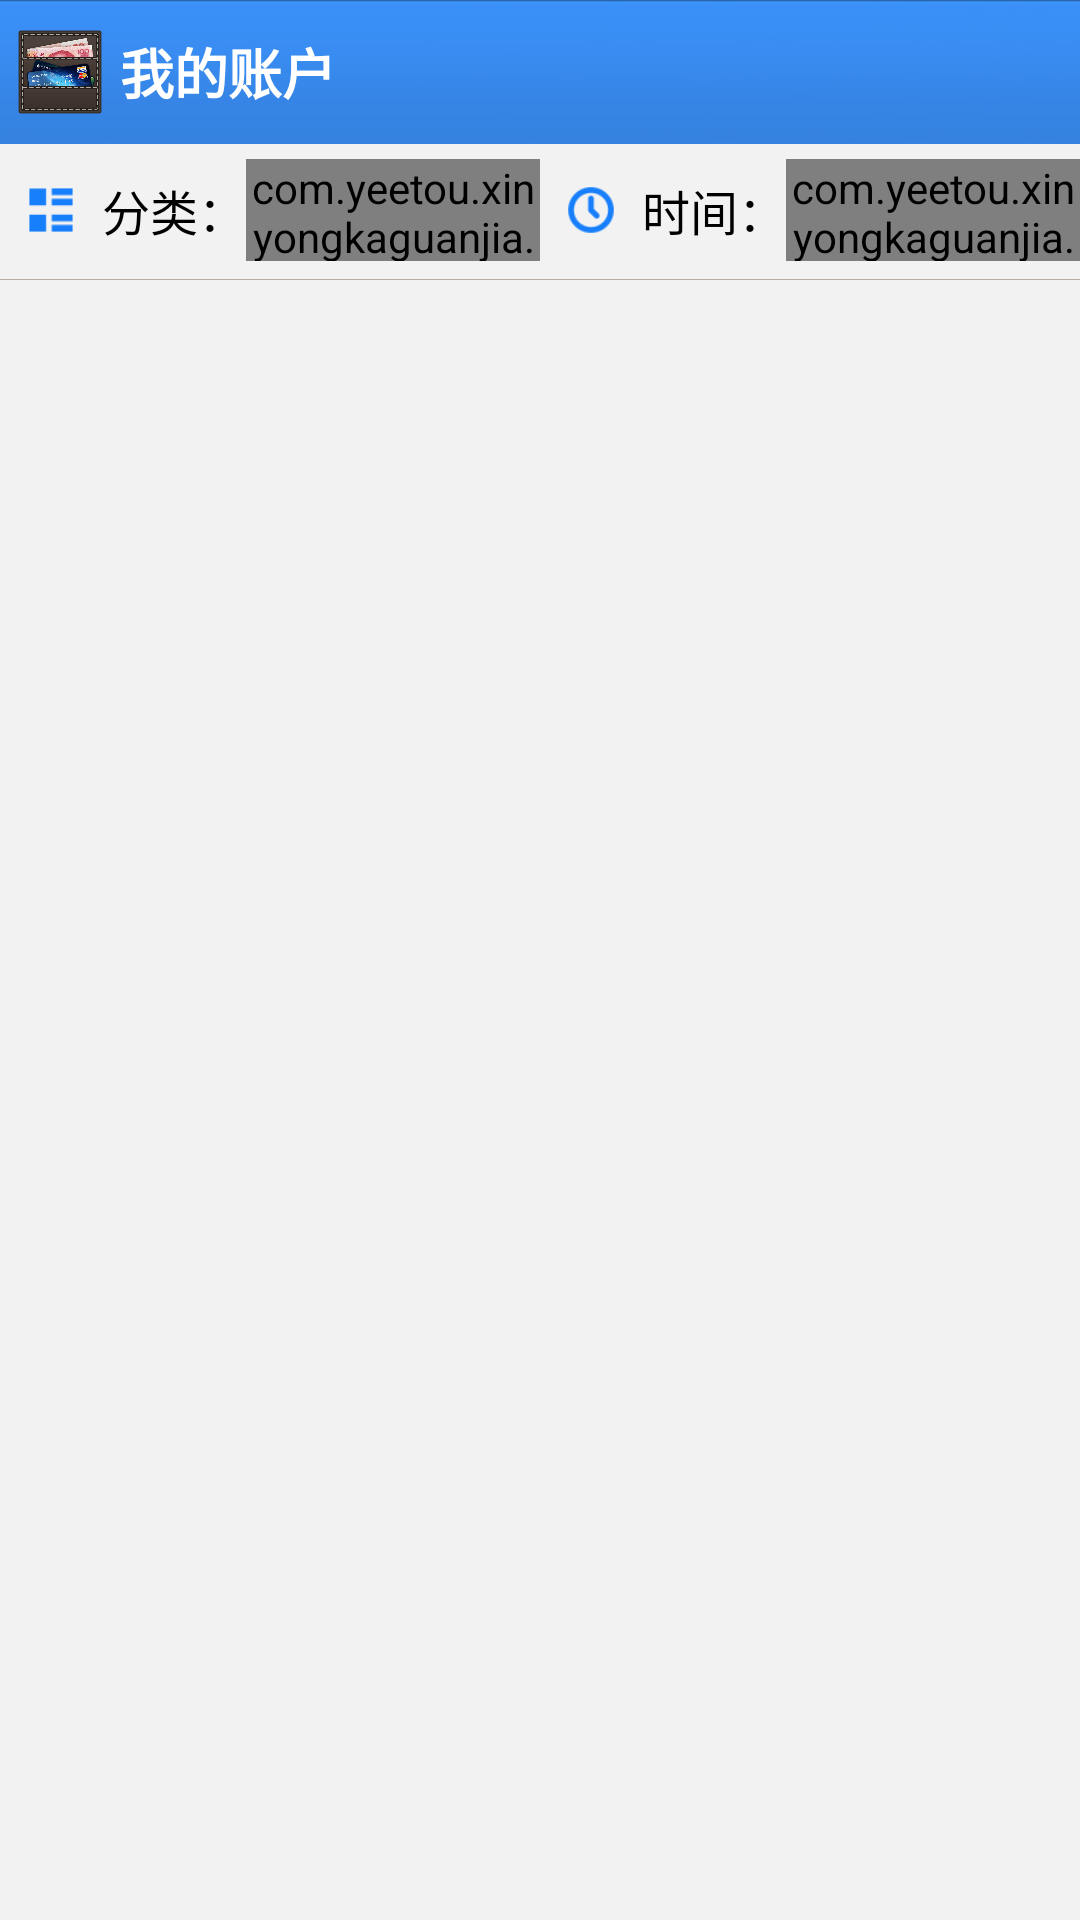

Screen size 1080w x 1920h. Icon name, then its center in pixels as (x,y):
date: (591,210)
